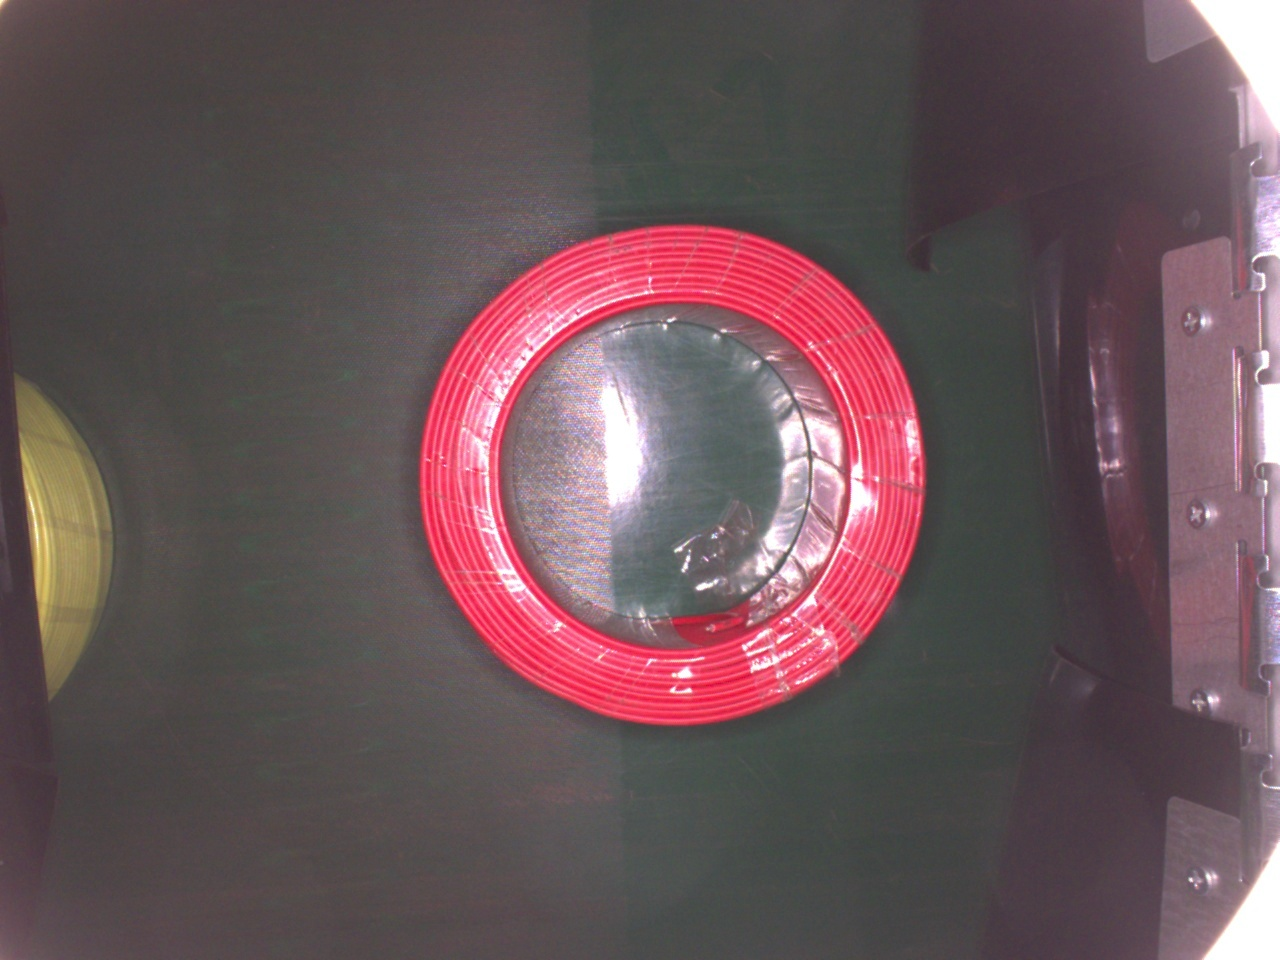red: (418, 222, 928, 734)
